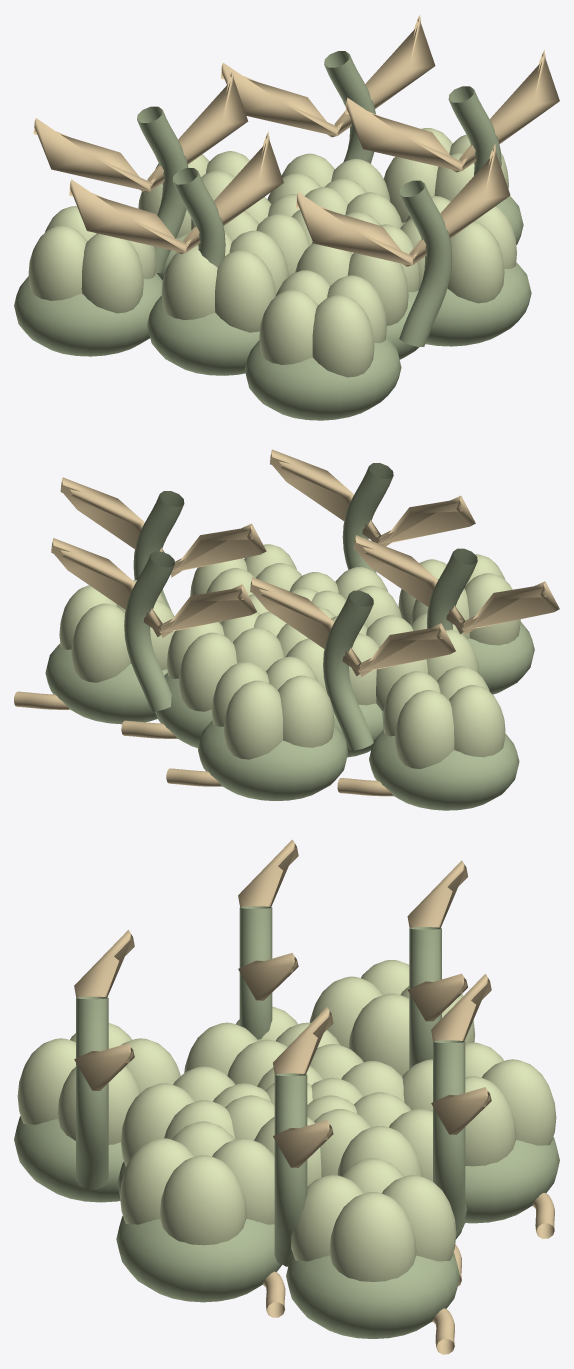
The model's file is bio_oxygen_reef_02_near.glb.
3 renders of one model, top to bottom at view 1: azimuth 30°, elevation 25°; view 2: azimuth 150°, elevation 25°; view 3: azimuth 270°, elevation 25°, orthographic. The views are drawn at different scales.
Visible parts, largest first — view 1: Lobed gas sac.028, Lobed gas sac.036, Lobed gas sac.016, Photosynthetic cushion.007, Photosynthetic cushion.009, Secondary fan lobe.002, Secondary fan lobe, Secondary fan lobe.004, Secondary fan lobe.008, Secondary fan lobe.006, Lobed gas sac.020, Photosynthetic cushion.004 (+14 smaller); view 2: Lobed gas sac.036, Lobed gas sac.024, Photosynthetic cushion.009, Photosynthetic cushion.006, Lobed gas sac.012, Lobed gas sac.032, Secondary fan lobe.008, Secondary fan lobe.006, Secondary fan lobe.002, Secondary fan lobe.004, Secondary fan lobe, Photosynthetic cushion.008 (+18 smaller); view 3: Lobed gas sac.032, Lobed gas sac.020, Photosynthetic cushion.008, Photosynthetic cushion.005, Lobed gas sac.024, Lobed gas sac.028, Lobed gas sac.036, Lobed gas sac.012, Lobed gas sac.008, Photosynthetic cushion.006, Branching support.002, Lobed gas sac.016 (+15 smaller).
Part boxes in pixels (x1,y1,x2,y2): Lobed gas sac.028: [259, 270, 386, 377]; Lobed gas sac.036: [28, 206, 156, 313]; Lobed gas sac.016: [161, 230, 288, 332]; Photosynthetic cushion.007: [244, 336, 401, 420]; Photosynthetic cushion.009: [14, 272, 162, 356]; Secondary fan lobe.002: [33, 70, 248, 192]; Secondary fan lobe: [345, 50, 559, 172]; Secondary fan lobe.004: [296, 144, 510, 266]; Secondary fan lobe.008: [69, 131, 283, 254]; Secondary fan lobe.006: [220, 15, 435, 137]; Lobed gas sac.020: [400, 196, 516, 303]; Photosynthetic cushion.004: [147, 295, 259, 375]; Lobed gas sac.036: [383, 666, 505, 769]; Lobed gas sac.024: [212, 656, 334, 759]; Photosynthetic cushion.009: [369, 730, 519, 810]; Photosynthetic cushion.006: [198, 720, 348, 800]; Lobed gas sac.012: [167, 612, 283, 711]; Lobed gas sac.032: [59, 580, 174, 682]; Secondary fan lobe.008: [354, 535, 559, 635]; Secondary fan lobe.006: [51, 538, 256, 638]; Secondary fan lobe.002: [250, 577, 455, 677]; Secondary fan lobe.004: [269, 449, 475, 546]; Secondary fan lobe: [60, 477, 266, 577]; Photosynthetic cushion.008: [45, 643, 167, 724]; Lobed gas sac.032: [291, 1158, 456, 1281]; Lobed gas sac.020: [120, 1121, 274, 1245]; Photosynthetic cushion.008: [286, 1252, 459, 1338]; Photosynthetic cushion.005: [116, 1216, 281, 1302]; Lobed gas sac.024: [402, 1042, 556, 1166]; Lobed gas sac.028: [17, 1023, 180, 1144]; Lobed gas sac.036: [309, 960, 474, 1076]; Lobed gas sac.012: [314, 1092, 432, 1181]; Lobed gas sac.008: [121, 1066, 270, 1166]; Photosynthetic cushion.006: [465, 1137, 559, 1223]; Branching support.002: [76, 996, 108, 1189]; Lobed gas sac.016: [184, 1006, 339, 1086].
Size of the model in its own units: 1.86 by 0.765 by 1.51.
